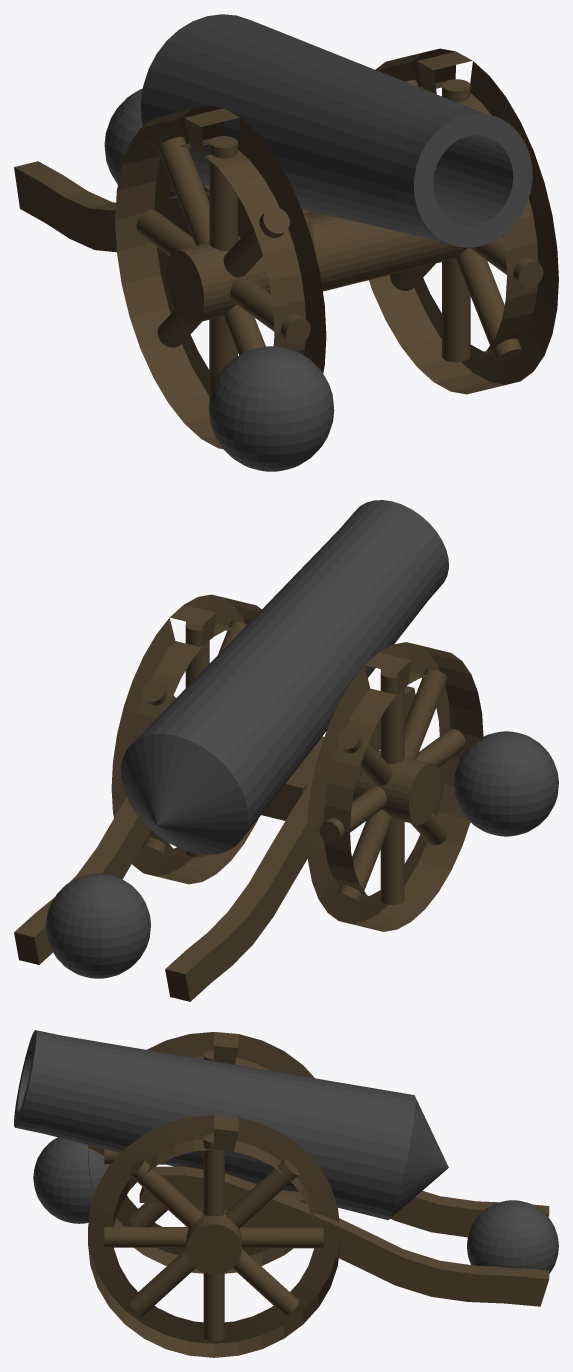
Rendered from Cannon.glb.
3 views of the same model, one above another, from view 1: azimuth 30°, elevation 25°; view 2: azimuth 150°, elevation 25°; view 3: azimuth 270°, elevation 25° (orthographic). The views are drawn at different scales.
Parts seen in each view (by area): view 1: Sphere.001; view 2: Sphere.001; view 3: Sphere.001.
Boxes of the visible parts, box(x1,y1,x2,y2) form: Sphere.001: box(14, 14, 558, 471); Sphere.001: box(14, 500, 558, 1001); Sphere.001: box(14, 1030, 558, 1357).
Bounding box in the file's own units: 1.52 × 1.5 × 2.66.
